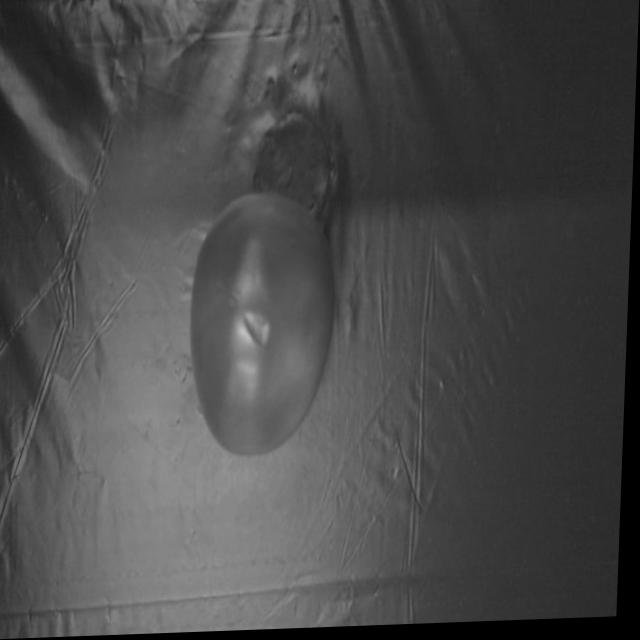kirmizi: (173, 172, 353, 482)
